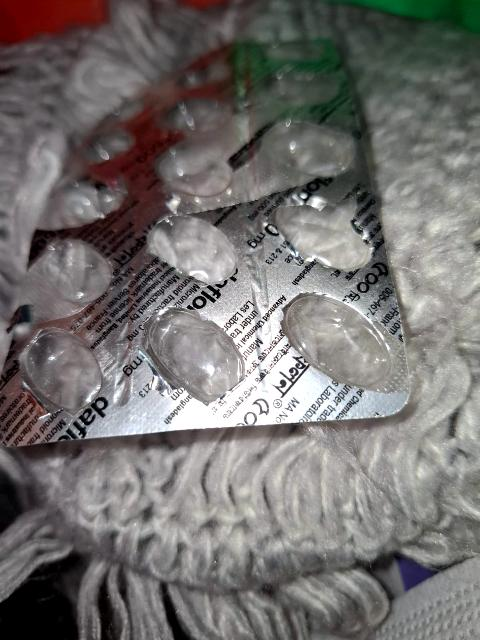medicine: (0, 36, 422, 443)
